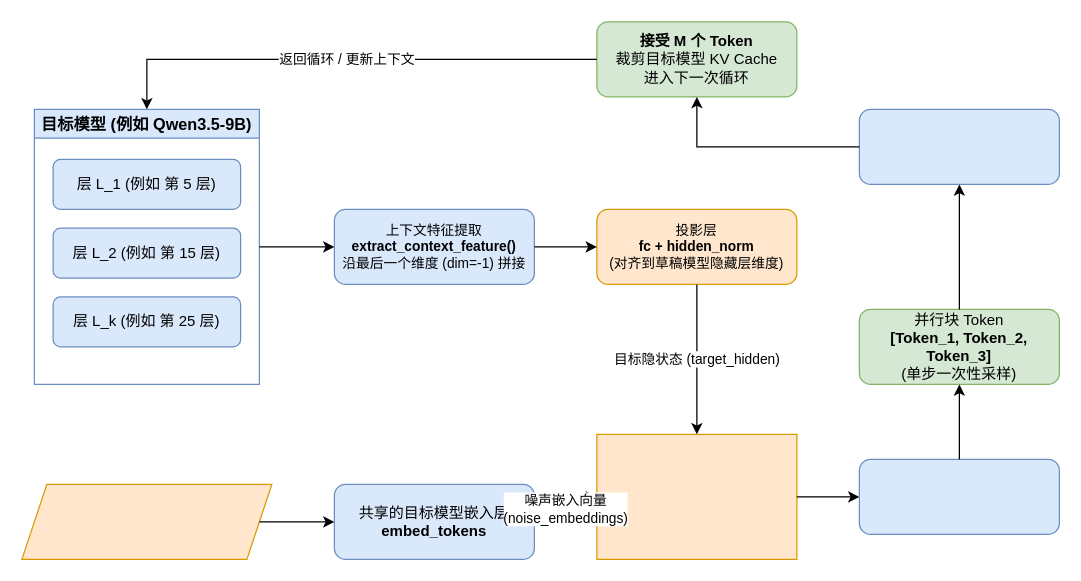
This 1081x581 diagram has some shape labels left out. Here are the shapes that lost their labels. From the top down, the centre of each, then its label:
At (x=958, y=146): "目标模型验证 在草稿块上运行目标模型 并行校验 Token".
At (x=696, y=496): "DFlash 草稿层 Transformer 层 双向注意力机制 (is_causal = False)".
At (x=958, y=496): "共享的目标模型输出头 lm_head".
At (x=146, y=521): "草稿输入块 [T_0, Mask, Mask, Mask]".
